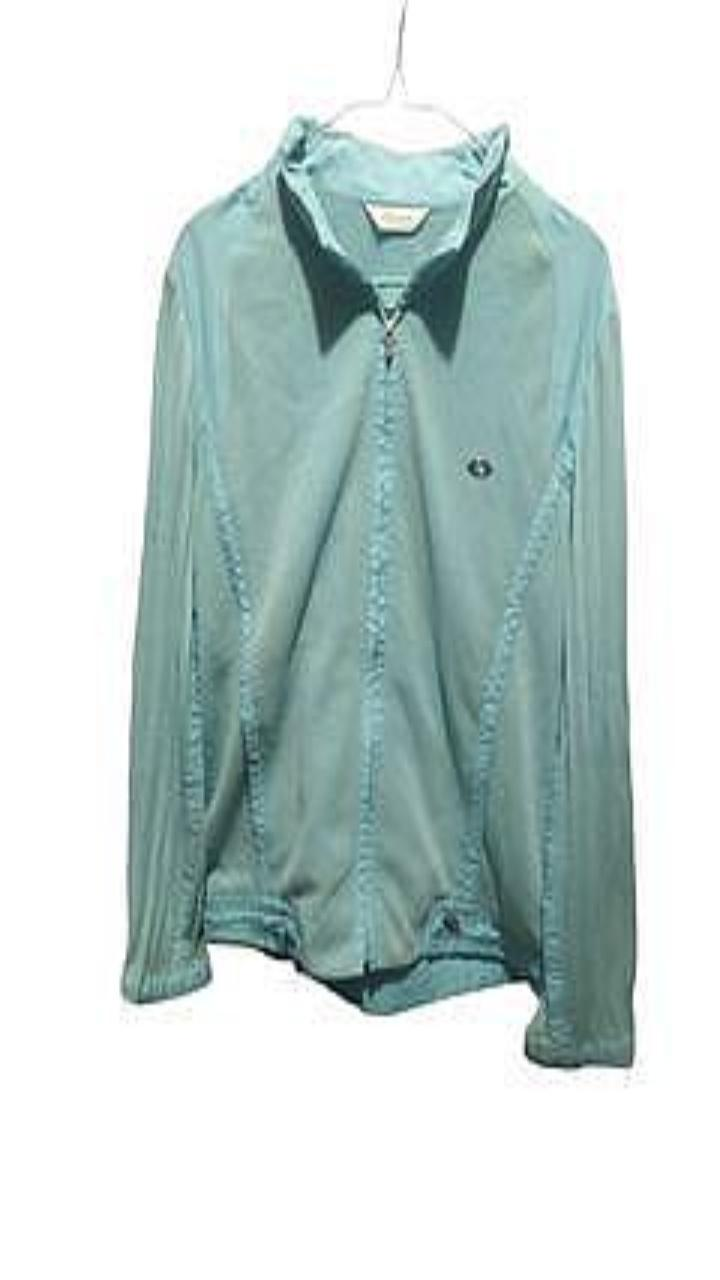Sports_Jacket: (122, 114, 635, 1066)
